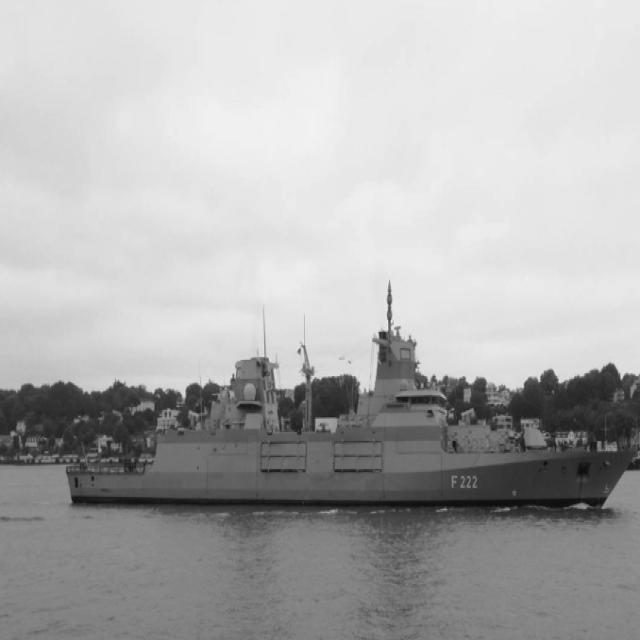Fragata: (60, 267, 640, 519)
